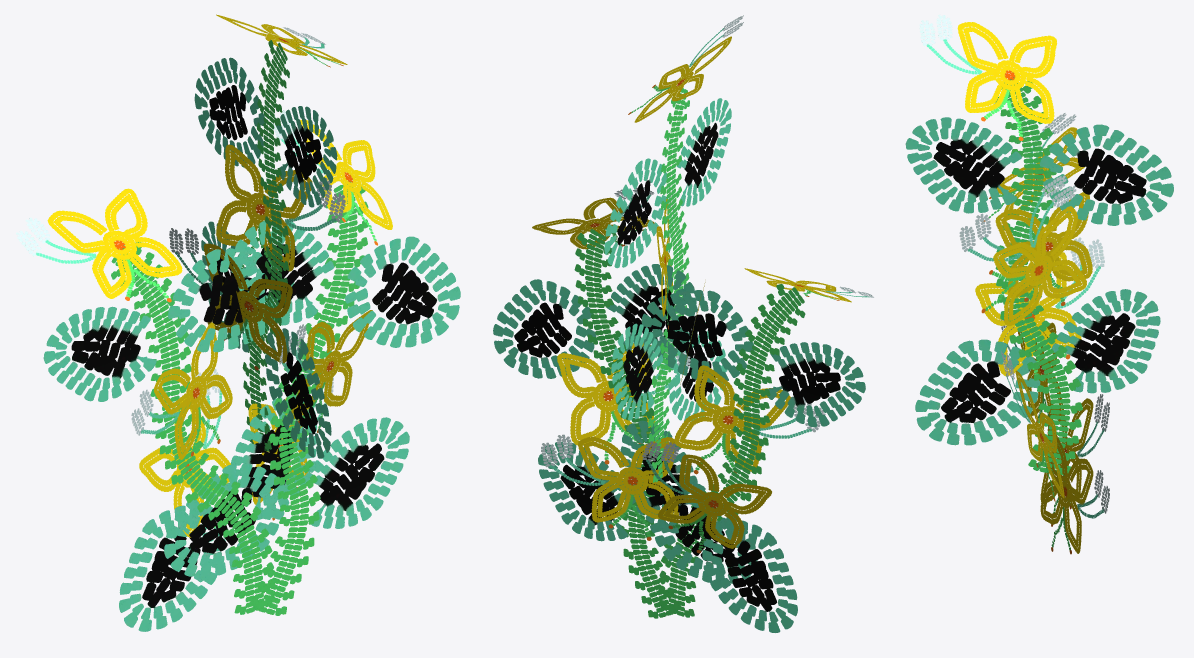
File: wolf-willow.glb
3 renders of one model, left to right at view 1: azimuth 30°, elevation 25°; view 2: azimuth 150°, elevation 25°; view 3: azimuth 270°, elevation 25°, orthographic. The views are drawn at different scales.
Visible parts, largest first — view 1: wolf-willow; view 2: wolf-willow; view 3: wolf-willow.
Boxes of the visible parts, bbox=[...] form: wolf-willow: bbox=[16, 14, 460, 631]; wolf-willow: bbox=[493, 15, 873, 632]; wolf-willow: bbox=[905, 14, 1173, 554].
Size of the model in its own units: 1.41 by 1.99 by 0.8232.
1 material, 1 textured.
